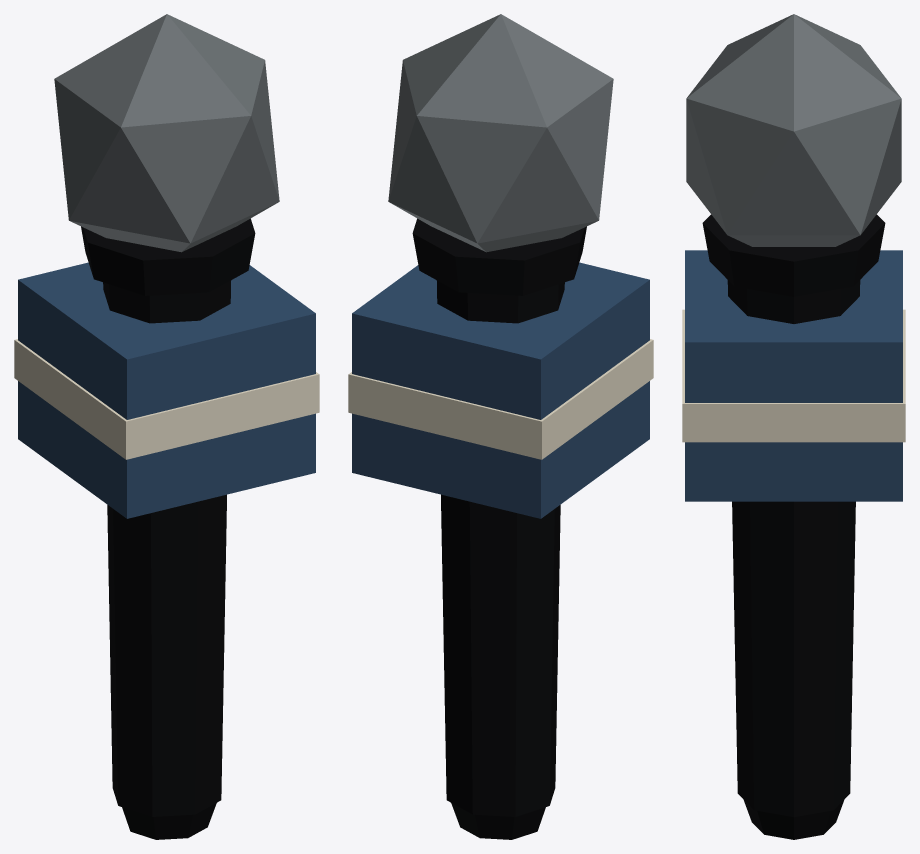
File: le-z-mic.glb
The picture shows the model from 3 angles, left to right: view 1: azimuth 30°, elevation 25°; view 2: azimuth 150°, elevation 25°; view 3: azimuth 270°, elevation 25°; orthographic projection.
Parts seen in each view (by area): view 1: le-z-mic; view 2: le-z-mic; view 3: le-z-mic.
Boxes of the visible parts, left/top/right/bottom form: le-z-mic: left=14, top=14, right=319, bottom=839; le-z-mic: left=348, top=14, right=653, bottom=839; le-z-mic: left=682, top=14, right=905, bottom=839.
Size of the model in its own units: 0.0644 by 0.2536 by 0.0635.
1 material, 1 textured.
